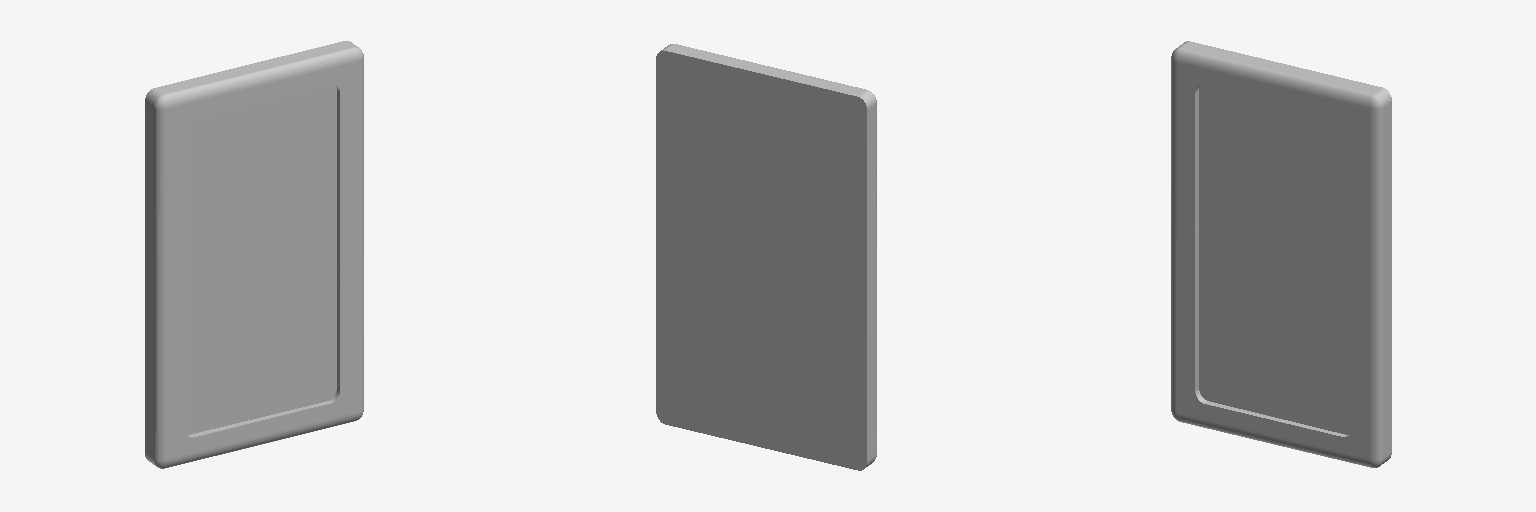
File: Guitar Dude.obj
The picture shows the model from 3 angles: view 1: azimuth 30°, elevation 25°; view 2: azimuth 150°, elevation 25°; view 3: azimuth 330°, elevation 25°; orthographic projection.
Parts seen in each view (by area): view 1: Object.1; view 2: Object.1; view 3: Object.1.
Boxes of the visible parts, x1=… form: Object.1: x1=145, y1=41, x2=363, y2=468; Object.1: x1=656, y1=44, x2=876, y2=470; Object.1: x1=1171, y1=41, x2=1391, y2=467.
Bounding box in the file's own units: 77.14 × 131 × 8.75.